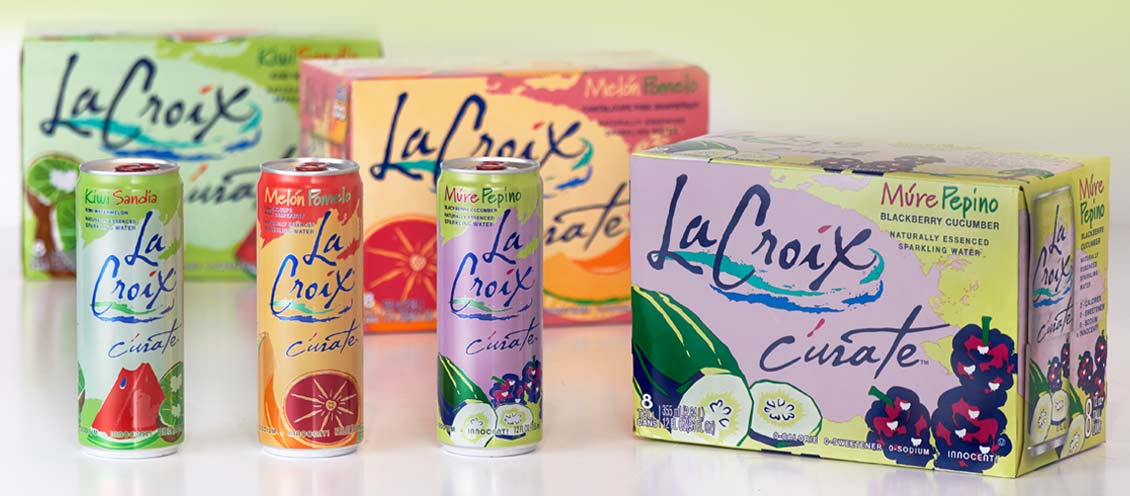can: (68, 152, 192, 464), (250, 154, 370, 464), (432, 156, 548, 460)
